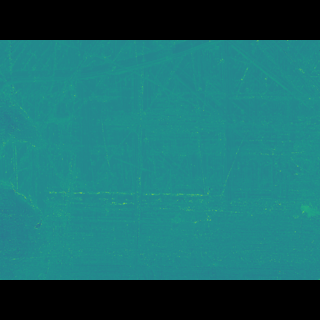Loch: (0, 67, 320, 210)
